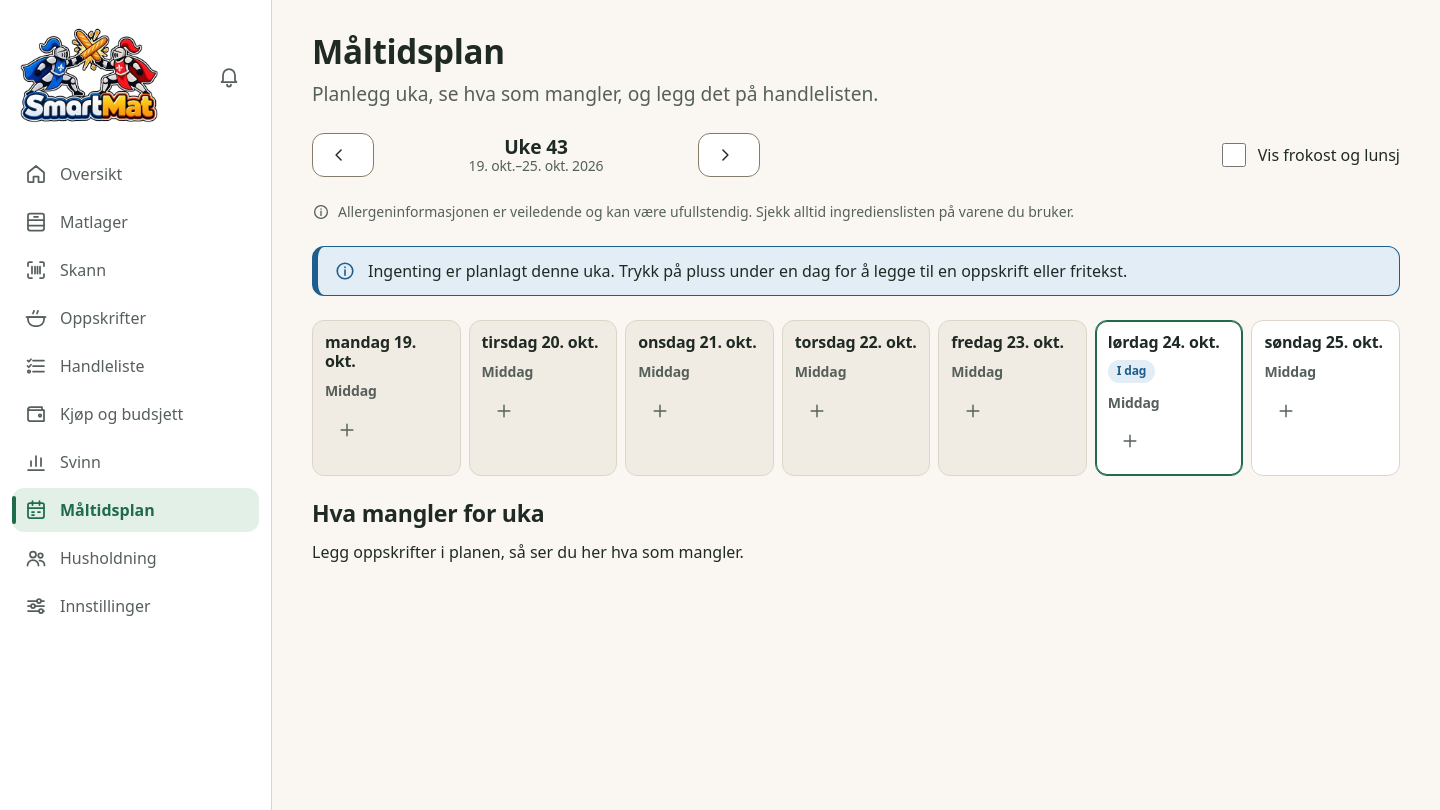
Test case: FR-PLAN-001 the week › this week is the default, today is marked, and the arrows move a week
The image size is (1440, 810).
Expected: the heading "Uke 43 19. okt.–25. okt. 2026" is shown, [469,133,603,175]
Expected: the heading "lørdag 24. okt. I dag" is shown, [1108,333,1230,383]
Click the 3rd link named "Neste uke" at (729, 155), box [698,133,760,177]
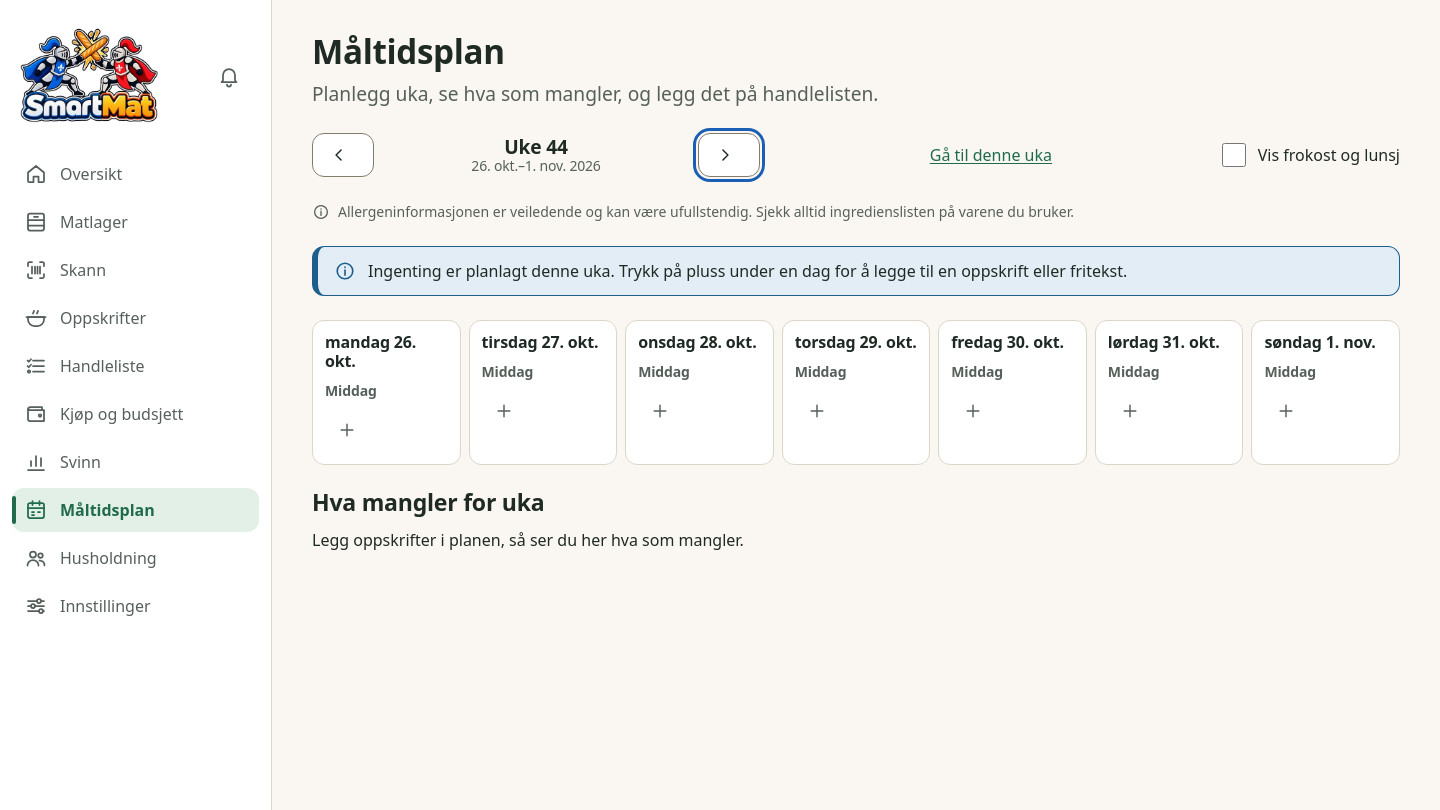
Expected: the heading "Uke 44 26. okt.–1. nov. 2026" is shown, [471,133,601,175]
